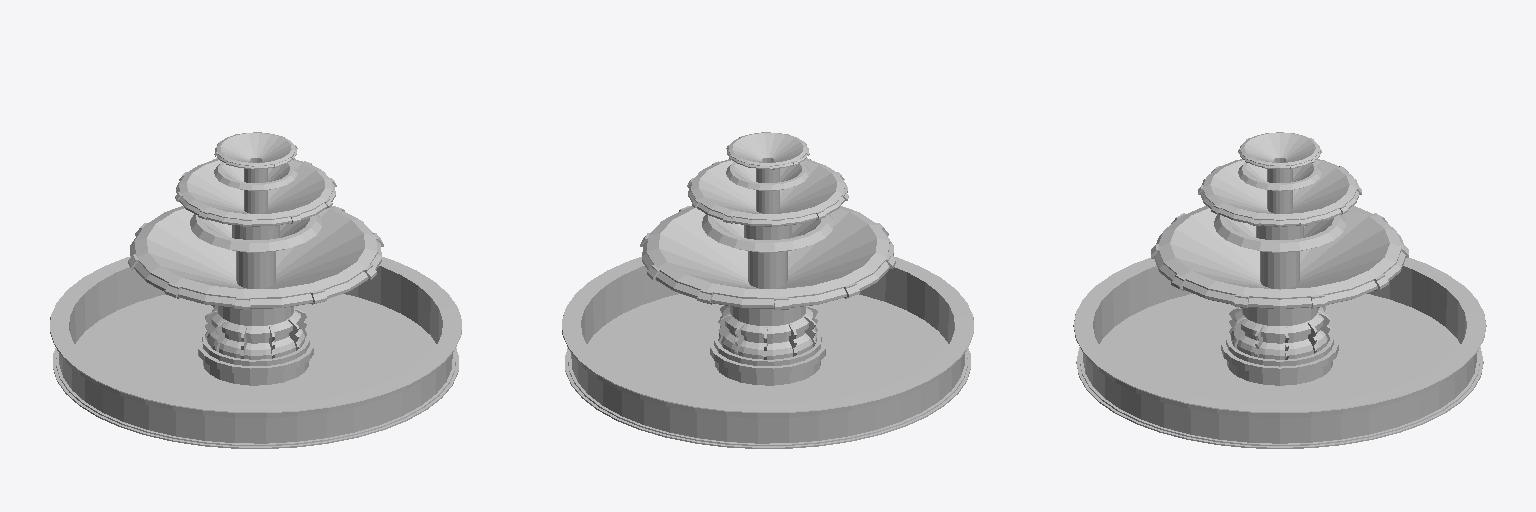
Rendered from fountain.obj.
The picture shows the model from 3 angles: view 1: azimuth 30°, elevation 25°; view 2: azimuth 150°, elevation 25°; view 3: azimuth 270°, elevation 25°; orthographic projection.
Parts seen in each view (by area): view 1: Fountain; view 2: Fountain; view 3: Fountain.
Boxes of the visible parts, box(x1,y1,x2,y2) form: Fountain: box(50, 132, 461, 448); Fountain: box(562, 132, 973, 448); Fountain: box(1073, 132, 1486, 448).
Size of the model in its own units: 11.21 by 6.47 by 11.21.